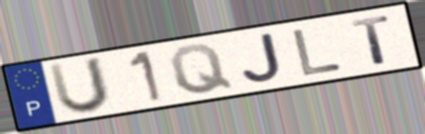1: (127, 49, 164, 104)
J: (240, 30, 284, 84)
L: (290, 27, 346, 78)
Q: (166, 42, 236, 96)
T: (349, 14, 394, 66)
U: (46, 54, 113, 116)
